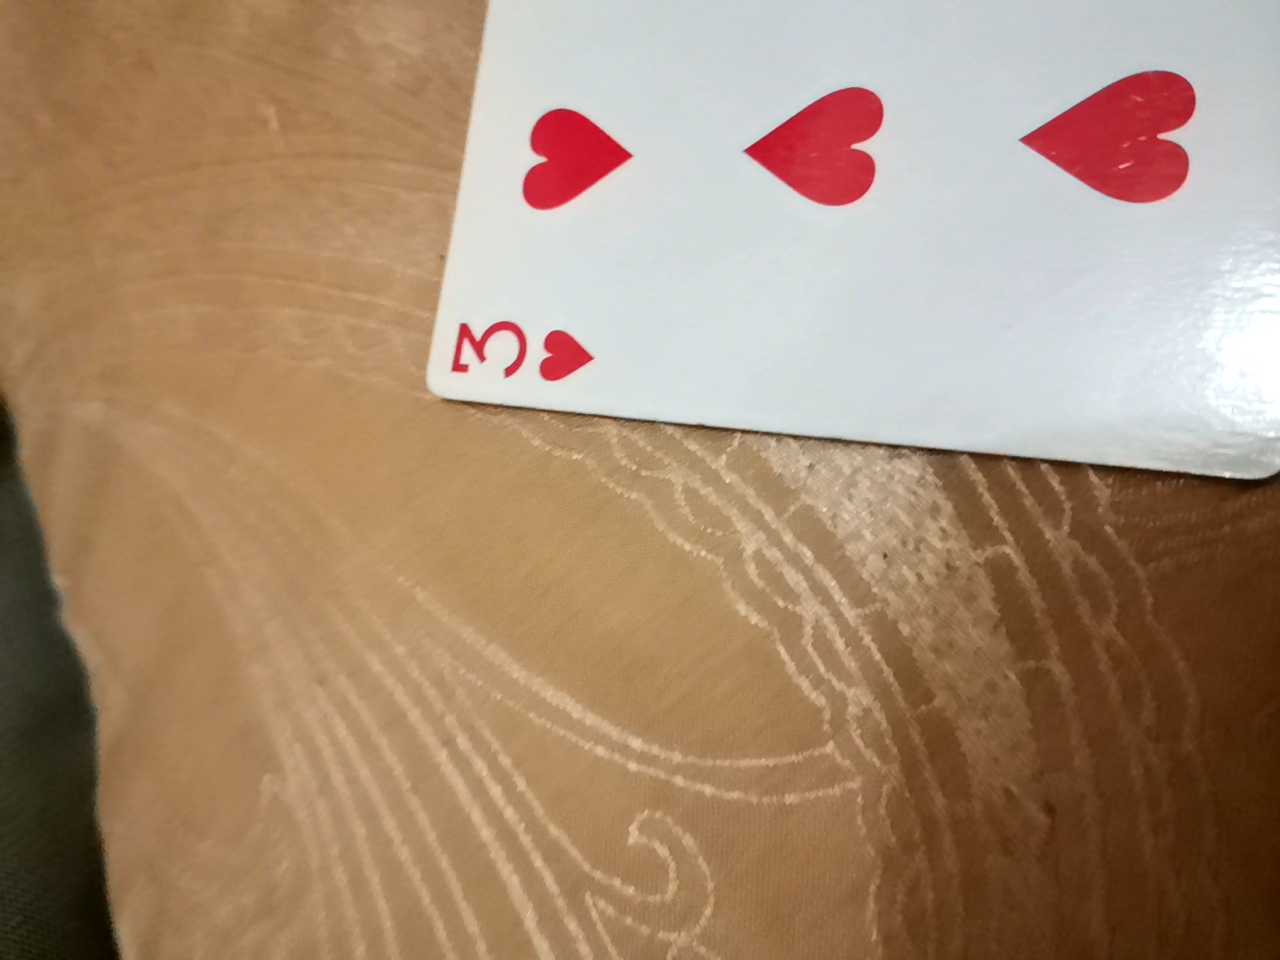hx 3: (401, 4, 1276, 477)
